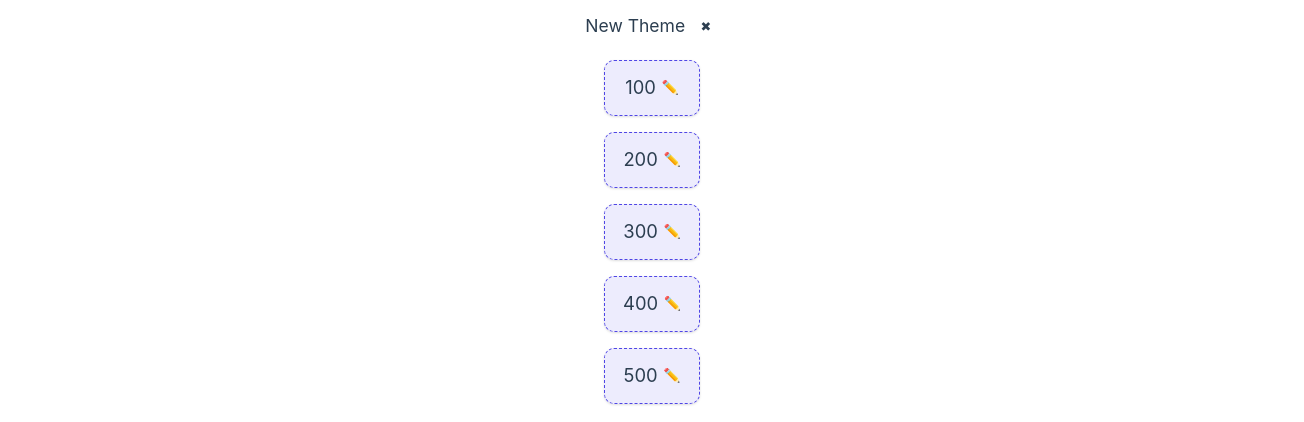
Test case: ThemeColumn › discards the title change with Escape
Click the heading with class "theme-header".
click(635, 26)  # box 585,12 -> 685,40
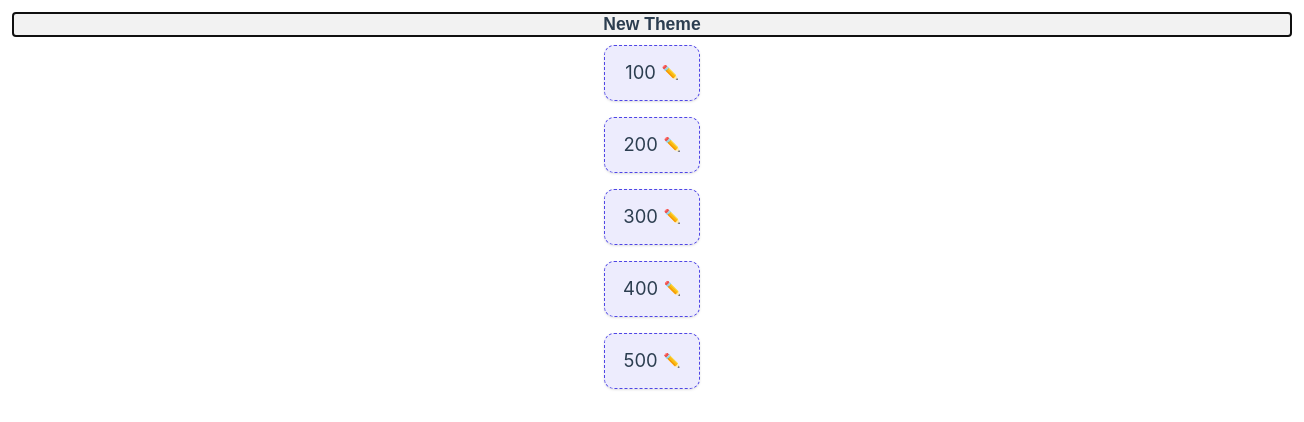
Replace the text in the field with class "theme-header-input" with "Geschichte" at (652, 24), box 12,12 -> 1292,37
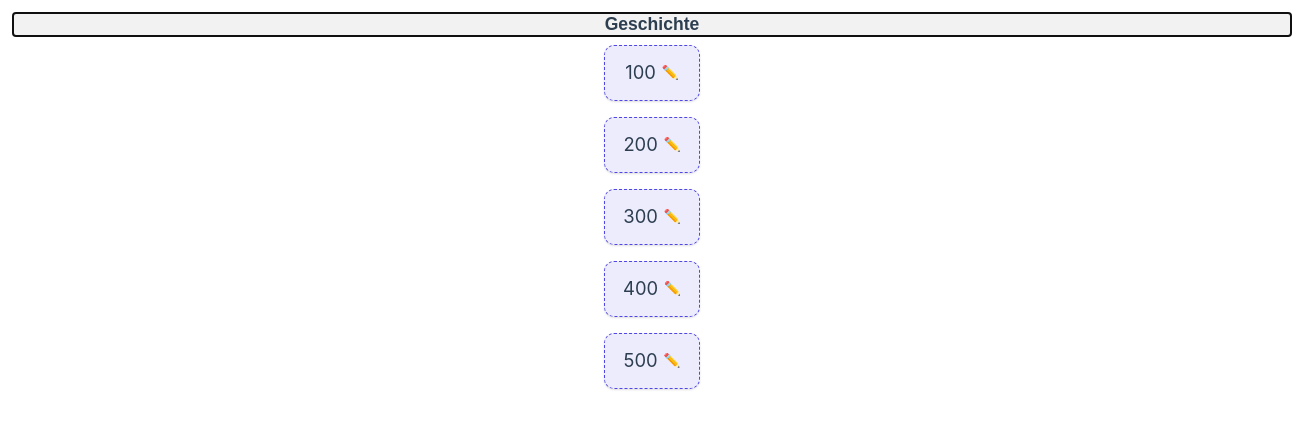
Press Esc in the field with class "theme-header-input", box 12,12 -> 1292,37
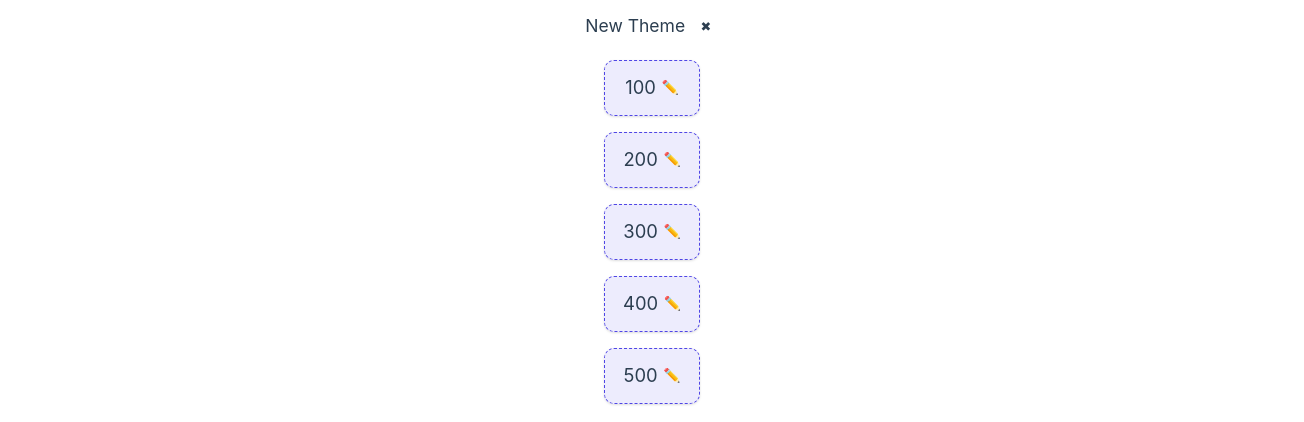
Expected: the heading "New Theme" is shown, 585,12 -> 685,40
